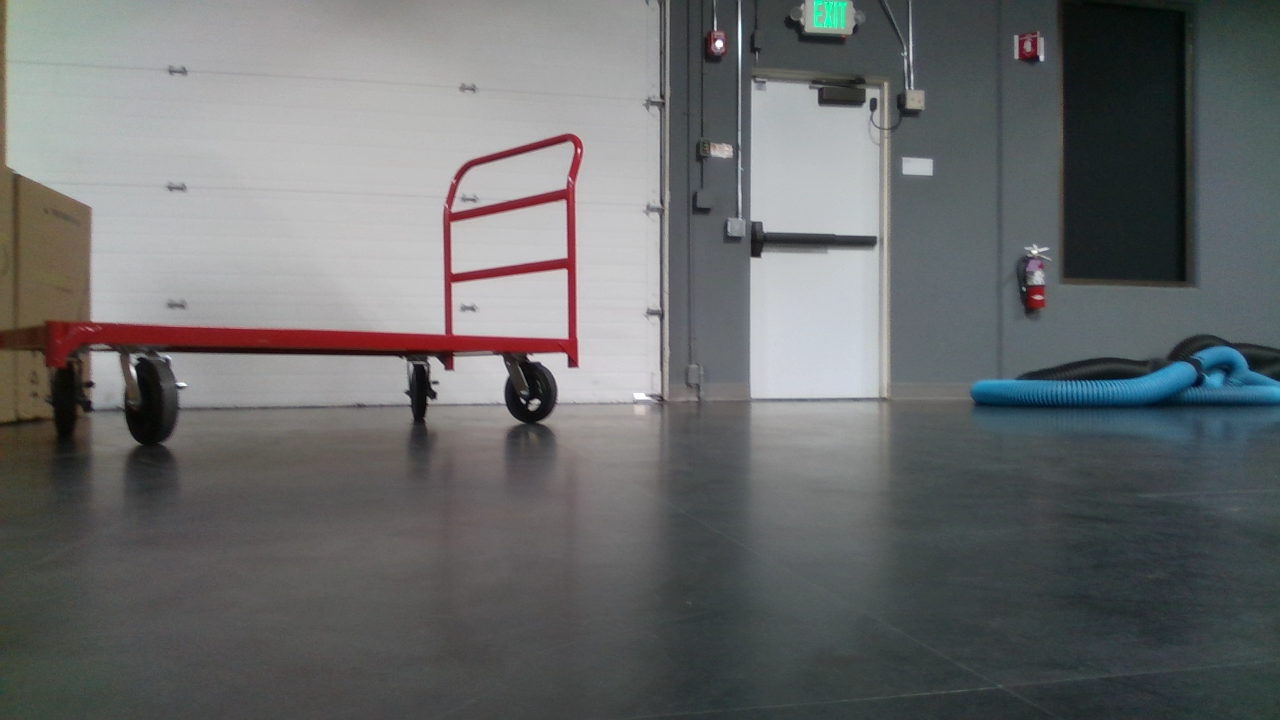Dolly: (0, 125, 600, 448)
Wheel: (120, 355, 183, 447), (41, 355, 98, 447), (501, 358, 563, 431), (400, 354, 441, 431)
